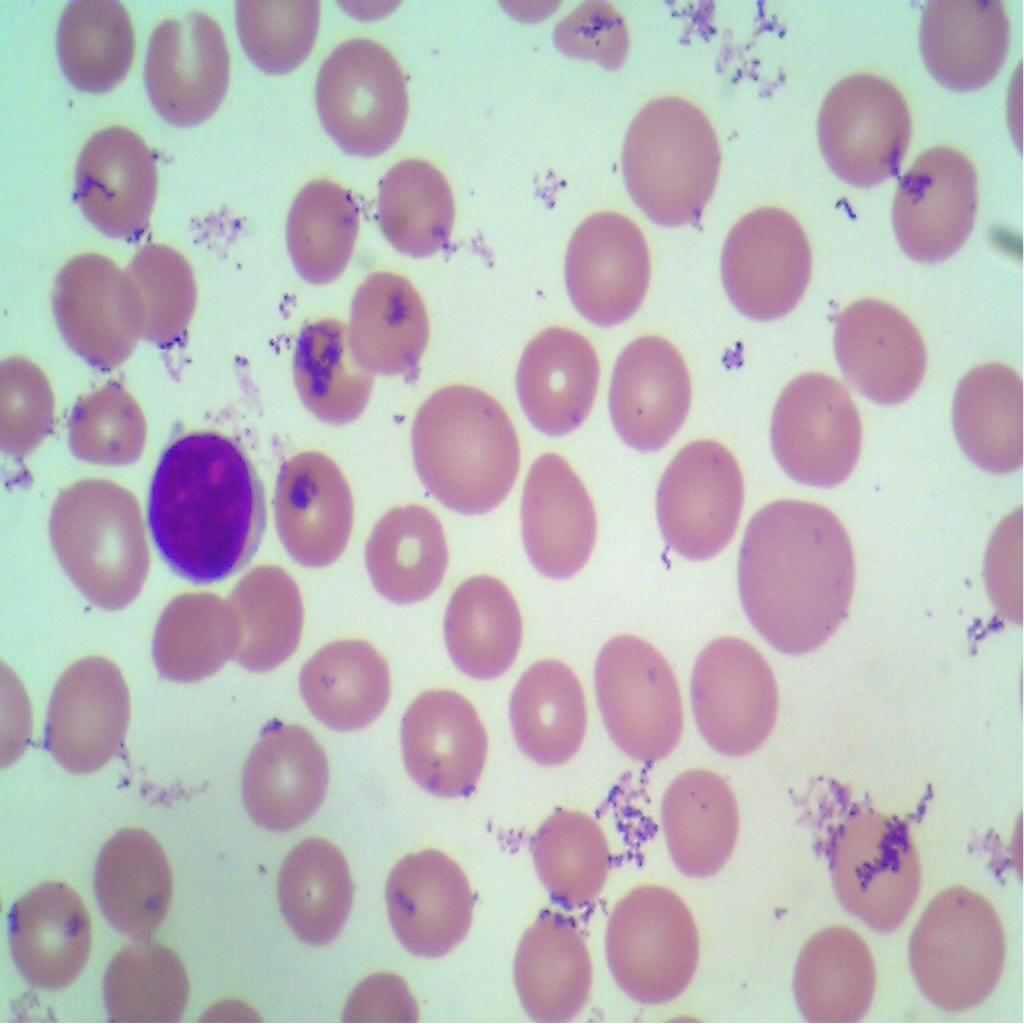Eritrosit: (733, 492, 858, 657), (614, 76, 718, 234), (408, 370, 523, 511), (902, 875, 1008, 1012), (886, 132, 990, 271), (508, 447, 614, 583), (768, 358, 870, 495), (584, 631, 683, 770), (56, 477, 158, 611), (826, 290, 939, 409), (598, 877, 699, 1010), (644, 432, 746, 558), (46, 646, 136, 788), (396, 680, 495, 808), (816, 802, 918, 925), (562, 204, 664, 327), (689, 625, 786, 752), (314, 37, 415, 158), (509, 318, 608, 440), (238, 710, 332, 836), (381, 841, 479, 958), (138, 14, 236, 130), (814, 61, 912, 177), (614, 331, 700, 462), (51, 248, 143, 367), (271, 448, 354, 575), (722, 202, 808, 324), (653, 765, 743, 879), (338, 268, 436, 372), (366, 491, 448, 614), (510, 911, 600, 1023), (433, 568, 524, 678), (375, 148, 461, 262), (909, 0, 1013, 94), (4, 881, 90, 994), (90, 822, 178, 932), (150, 583, 242, 688), (218, 564, 308, 671), (79, 121, 159, 241), (286, 171, 366, 290), (95, 935, 202, 1023), (290, 632, 388, 726), (524, 802, 610, 909), (510, 658, 593, 768), (46, 0, 135, 101), (116, 241, 203, 344), (276, 828, 353, 944), (288, 321, 373, 426), (786, 924, 875, 1023), (949, 358, 1023, 474), (550, 0, 642, 79), (64, 382, 150, 465)
Limfosit: (143, 428, 276, 591)
